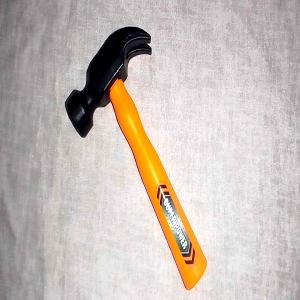martelo: (64, 24, 208, 291)
